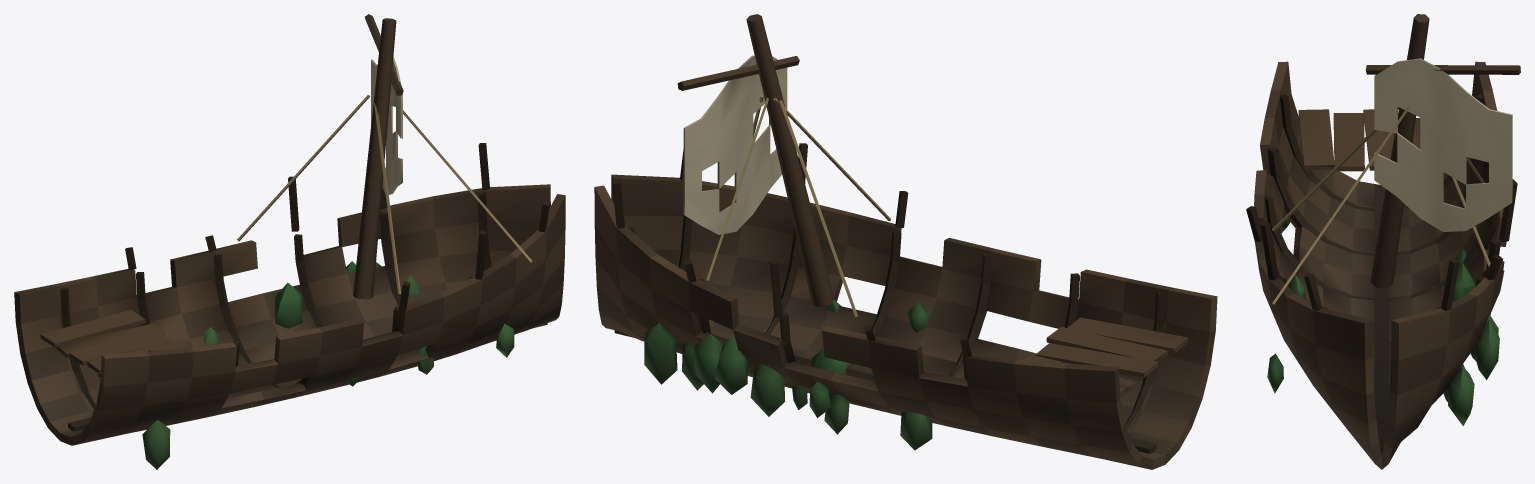
Rendered from shipwreck.glb.
3 renders of one model, left to right at view 1: azimuth 30°, elevation 25°; view 2: azimuth 150°, elevation 25°; view 3: azimuth 270°, elevation 25°, orthographic. The views are drawn at different scales.
Parts seen in each view (by area): view 1: shipwreck; view 2: shipwreck; view 3: shipwreck.
Boxes of the visible parts, <box> form: shipwreck: <box>14,14,565,469</box>; shipwreck: <box>594,14,1217,469</box>; shipwreck: <box>1246,14,1520,469</box>.
Bounding box in the file's own units: 9.06 × 5.81 × 3.79.
